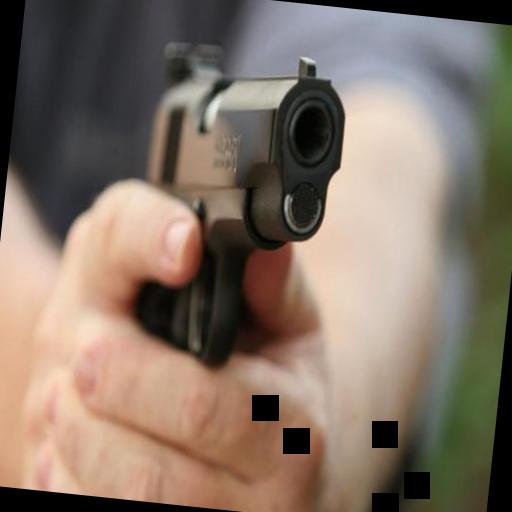Handgun: (123, 28, 357, 386)
